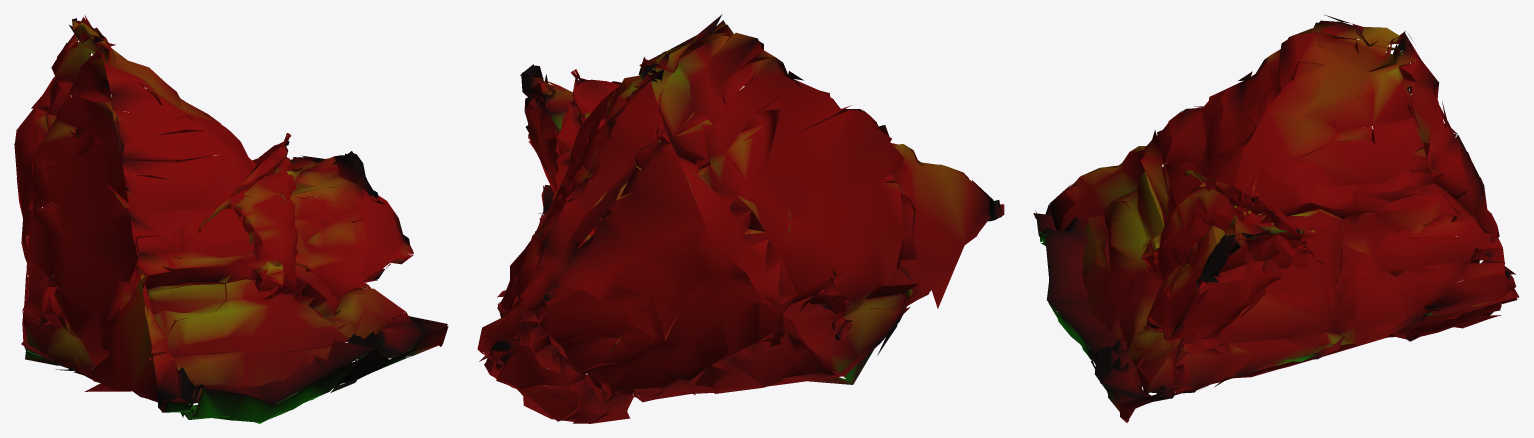
File: cliffs_lod.glb
The picture shows the model from 3 angles, left to right: view 1: azimuth 30°, elevation 25°; view 2: azimuth 150°, elevation 25°; view 3: azimuth 270°, elevation 25°; orthographic projection. The views are drawn at different scales.
Visible parts, largest first — view 1: Rock_5_LOD, Rock_4_LOD, Rock_3_LOD; view 2: Rock_5_LOD, Rock_4_LOD, Rock_3_LOD; view 3: Rock_5_LOD, Rock_4_LOD, Rock_3_LOD.
Part boxes in pixels (x1,y1,x2,y2): Rock_5_LOD: (14, 15, 448, 423); Rock_4_LOD: (39, 151, 413, 345); Rock_3_LOD: (150, 133, 302, 354); Rock_5_LOD: (477, 14, 1004, 423); Rock_4_LOD: (520, 64, 853, 340); Rock_3_LOD: (542, 69, 762, 390); Rock_5_LOD: (1033, 14, 1518, 422); Rock_4_LOD: (1147, 149, 1393, 342); Rock_3_LOD: (1141, 170, 1355, 353).
Size of the model in its own units: 4.45 by 3.68 by 5.51.
